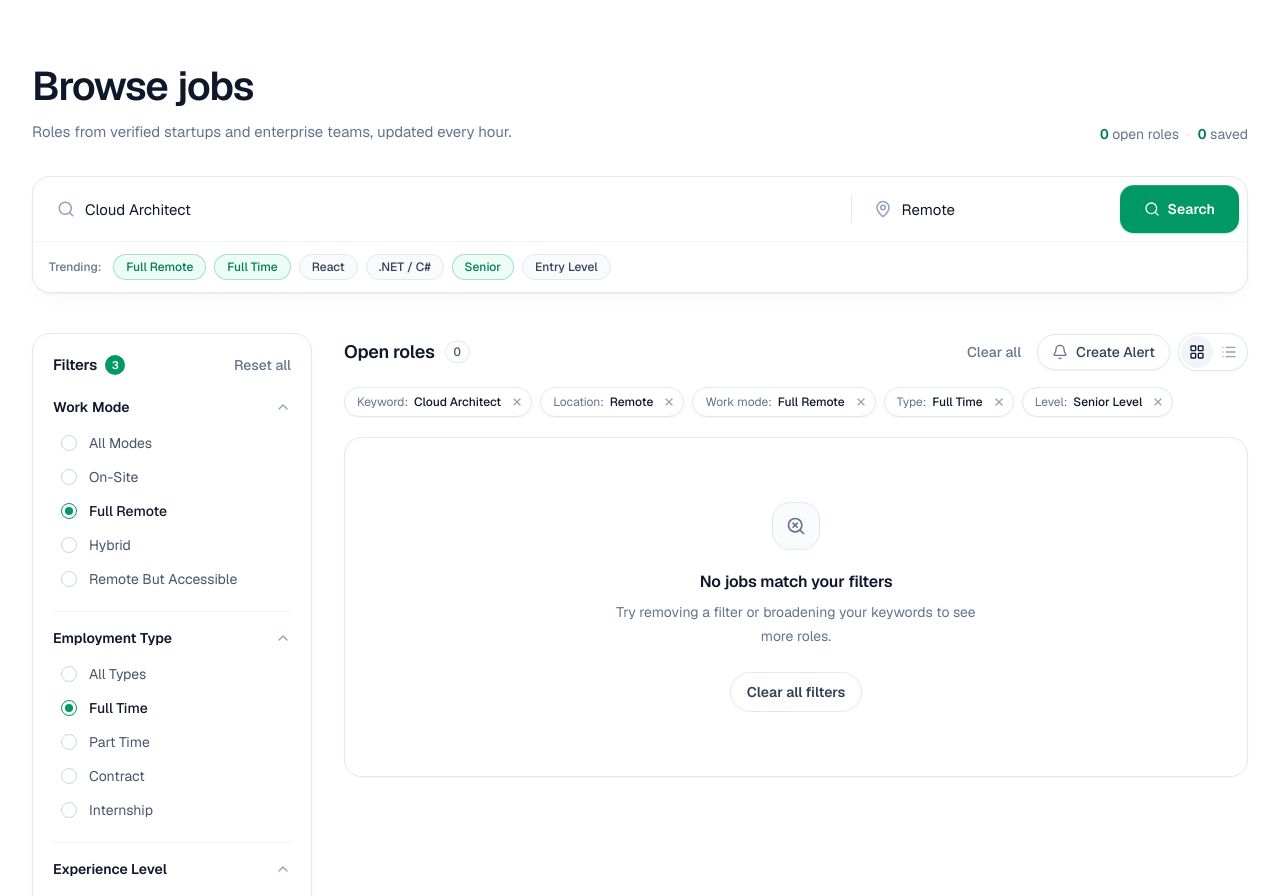
Test: JobsView Alert Integration › renders "Create Job Alert" button and opens dialog when clicked
Click the button "Create Alert". click: click(1104, 352)
box: x1=1037 y1=334 x2=1170 y2=370
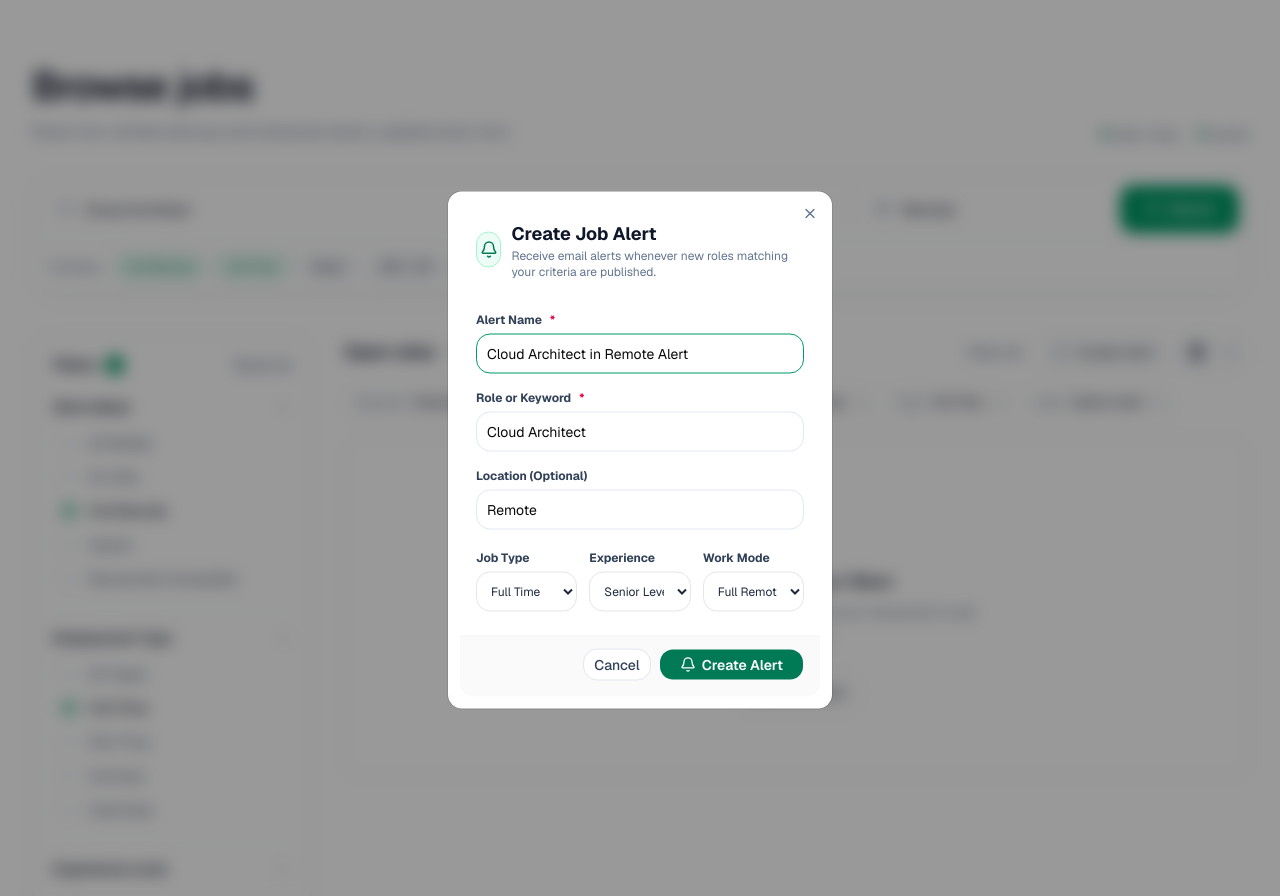
Check: the heading "Create Job Alert" is shown, box x1=512 y1=222 x2=656 y2=244
Check: the field labelled "Alert Name *" holds "Cloud Architect in Remote Alert", box x1=476 y1=334 x2=804 y2=374
